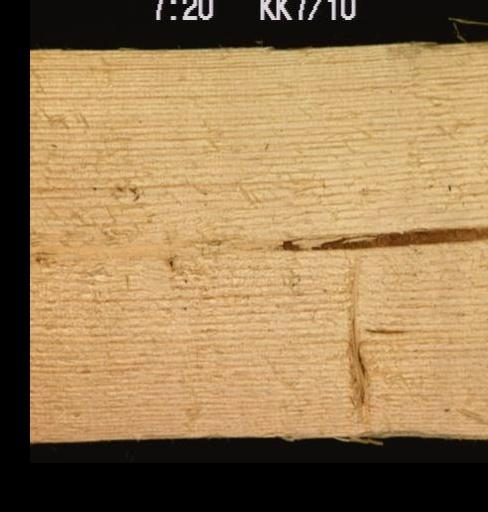small_knot: (150, 243, 188, 273), (29, 243, 64, 275)
